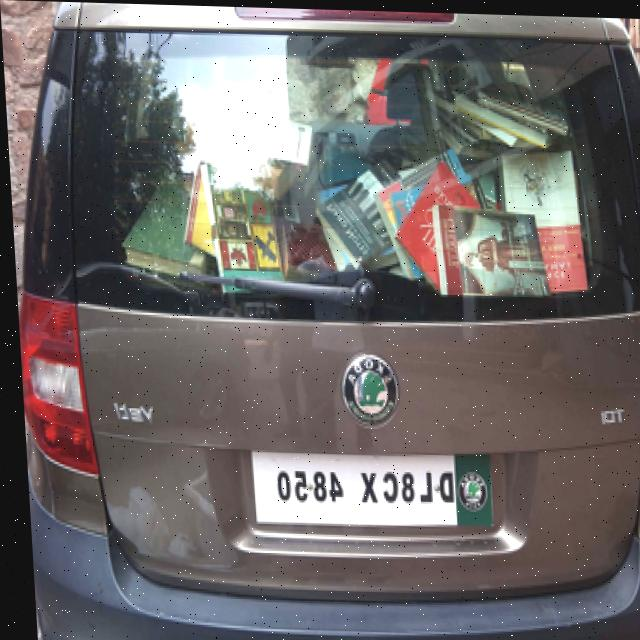plate: (247, 443, 488, 526)
